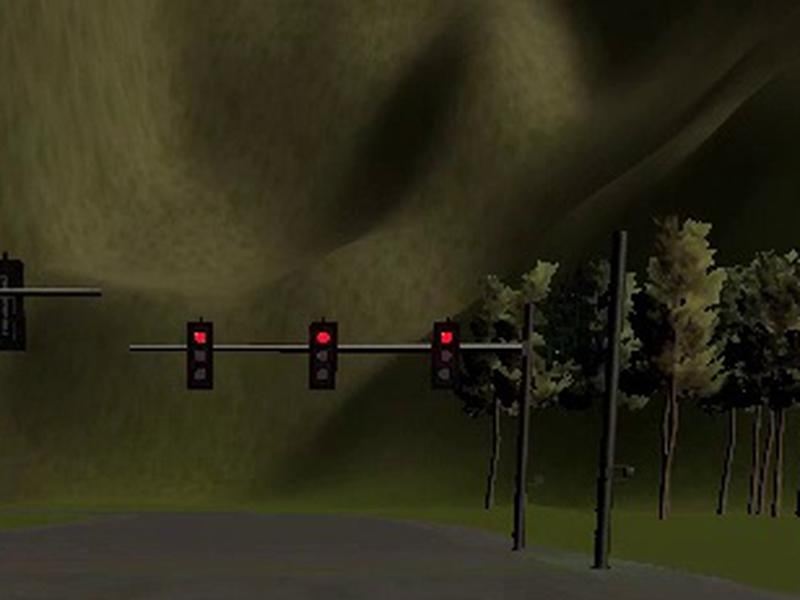Red: (189, 321, 214, 389), (311, 322, 336, 390), (433, 323, 458, 390)
